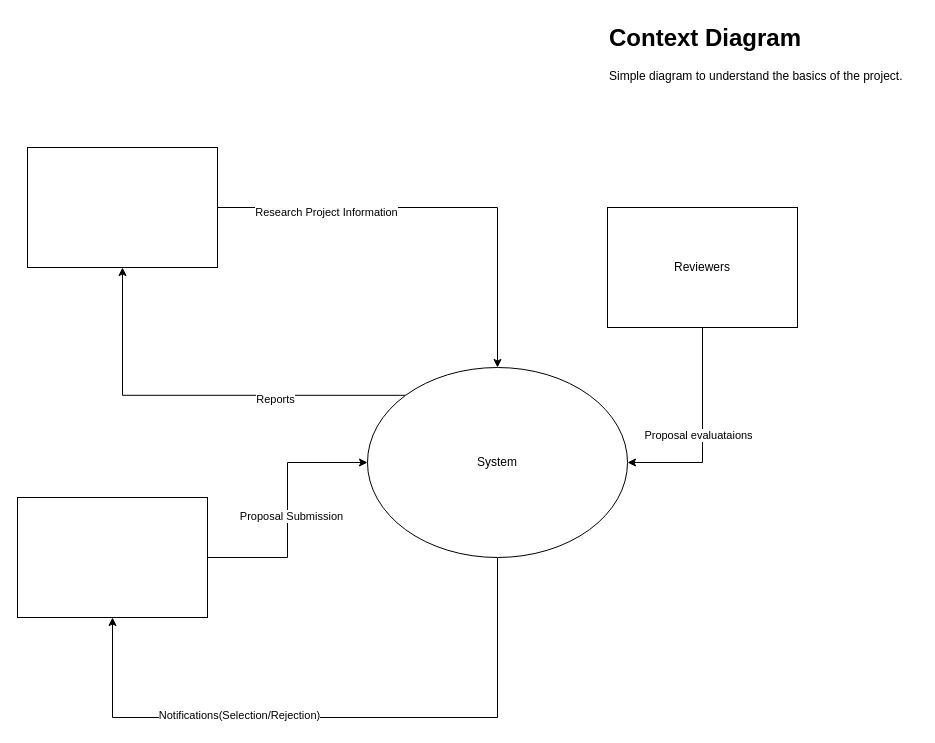
Some shapes in this 935 by 743 pixel diagram are drawn without their labels. The centre of each missing label's shape, as x and y in pixels:
"Researchers" goes at (112,557).
"University Grants Commission" goes at (122,207).
